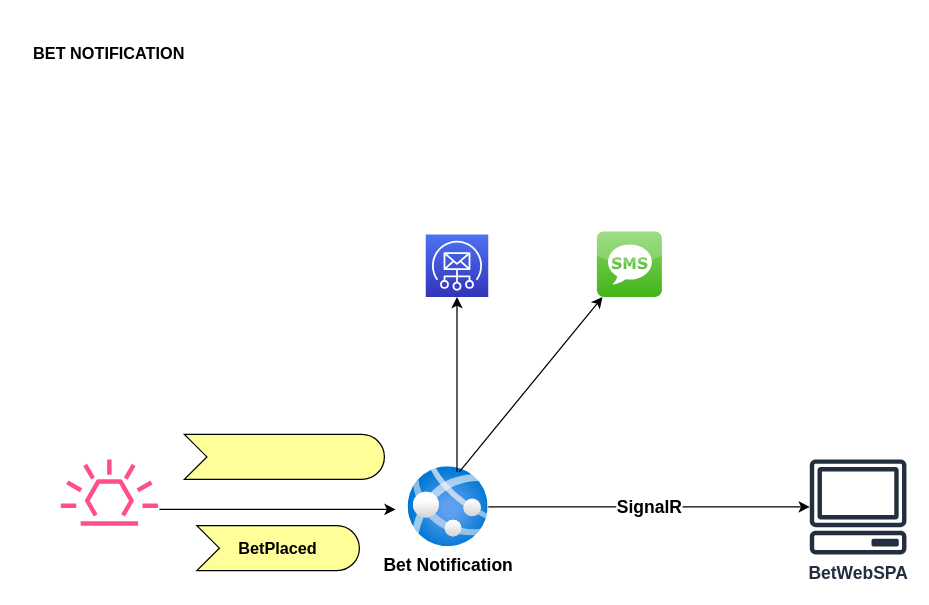
The diagram is 929 pixels wide and 605 high, and some of its shapes have lost their labels. The box of each missing label's shape, as (x1, y1, x2, y2) in pixels:
BulletinChanged: (183, 433, 384, 479)
RabbitMQ: (60, 459, 158, 525)
